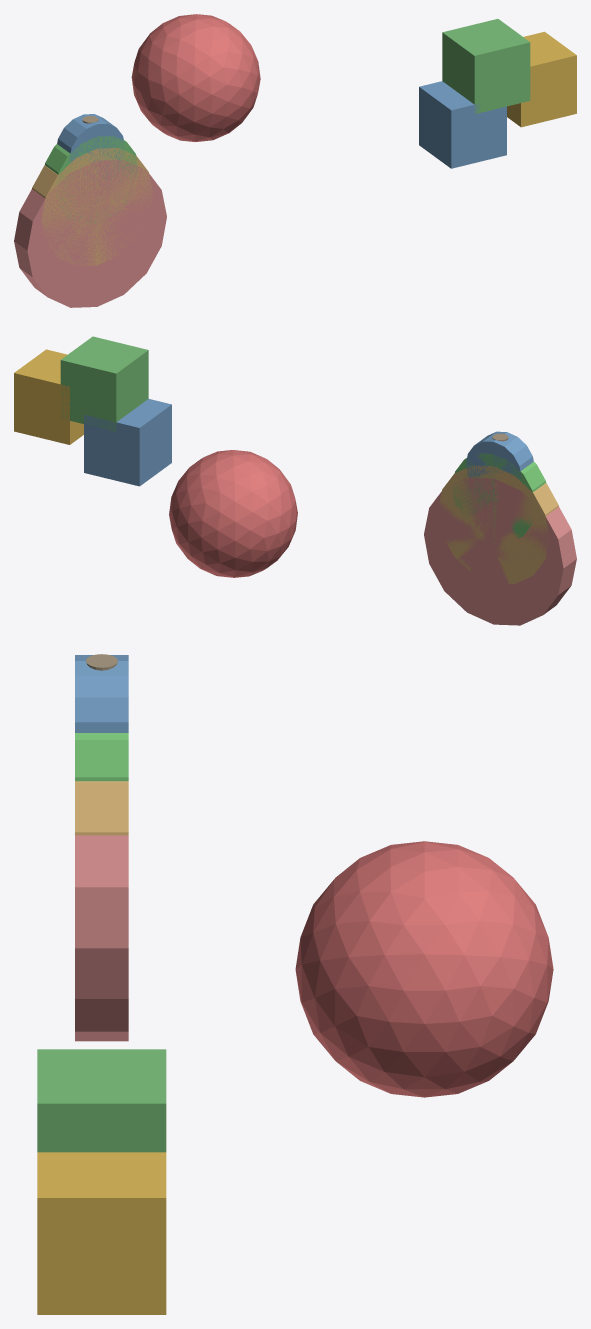
File: Toys.glb
3 views of the same model, one above another, from view 1: azimuth 30°, elevation 25°; view 2: azimuth 150°, elevation 25°; view 3: azimuth 270°, elevation 25° (orthographic). The views are drawn at different scales.
Parts seen in each view (by area): view 1: world; view 2: world; view 3: world.
Part boxes in pixels (left/top/right/bottom): world: left=14, top=14, right=576, bottom=307; world: left=14, top=336, right=576, bottom=625; world: left=37, top=654, right=553, bottom=1314.
Size of the model in its own units: 1.16 by 0.375 by 0.48.
